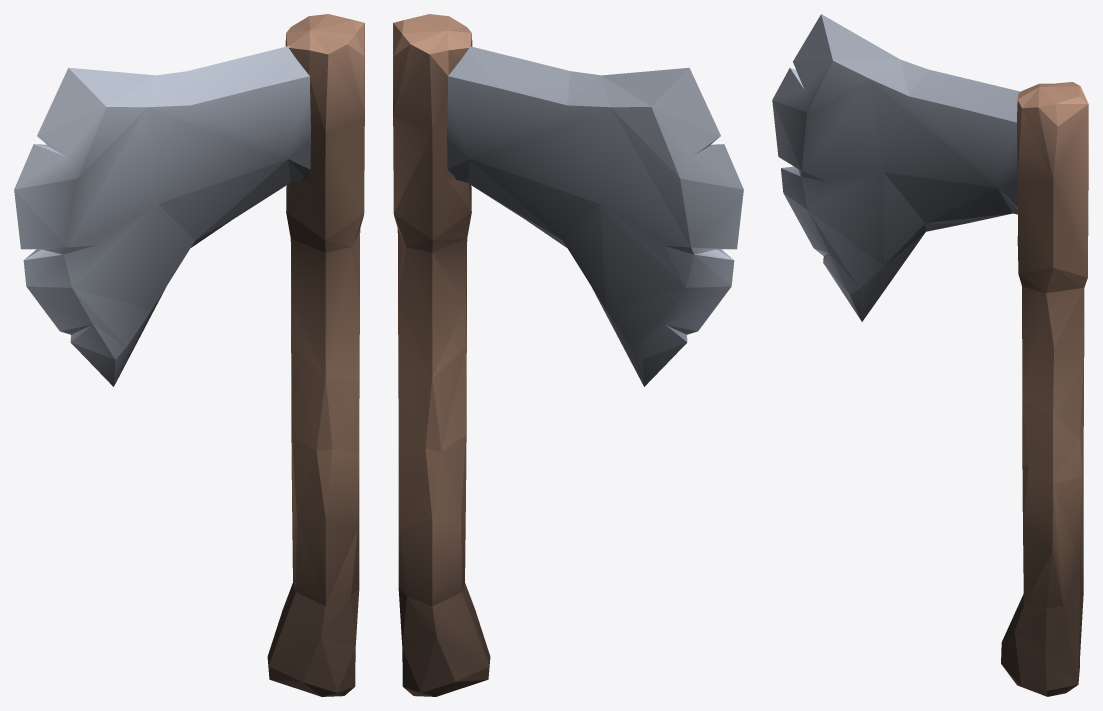
Rendered from basic_axe.fbx.
3 views of the same model, side by side, from view 1: azimuth 30°, elevation 25°; view 2: azimuth 150°, elevation 25°; view 3: azimuth 330°, elevation 25° (orthographic). The views are drawn at different scales.
Visible parts, largest first — view 1: axe_basic_mesh; view 2: axe_basic_mesh; view 3: axe_basic_mesh.
Part boxes in pixels (x1,y1,x2,y2): axe_basic_mesh: (14,14,364,696); axe_basic_mesh: (393,14,743,696); axe_basic_mesh: (772,14,1088,696).
Bounding box in the file's own units: 0.3968 × 0.7422 × 0.0928.
